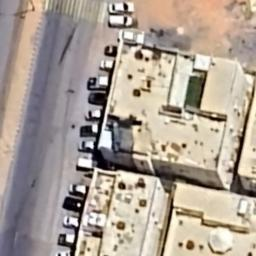pickup: (86, 74, 114, 90), (56, 231, 80, 247), (78, 123, 102, 137)
sedan: (106, 2, 138, 16), (67, 182, 93, 198), (61, 213, 84, 229), (87, 92, 113, 106), (77, 139, 101, 153), (84, 107, 106, 122), (100, 58, 118, 72)
unknown: (61, 195, 87, 214), (103, 43, 121, 56)
van: (106, 14, 136, 30)
